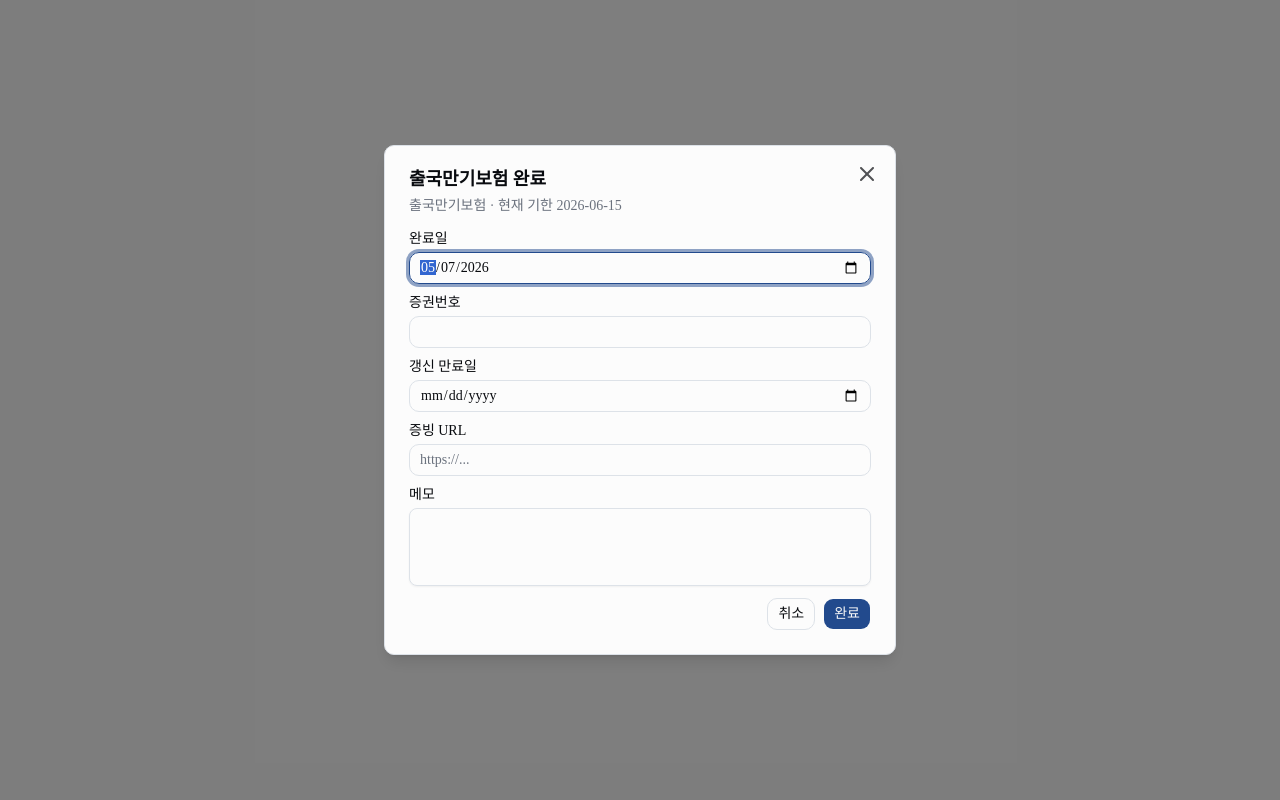
DeadlineCompleteModal - submit › 갱신_만료일이_완료일보다_이전이면_제출하지_않는다
The width and height of the screenshot is (1280, 800).
In the date field labelled "완료일": (640, 268) [409,252,871,284], type "2026-05-06"
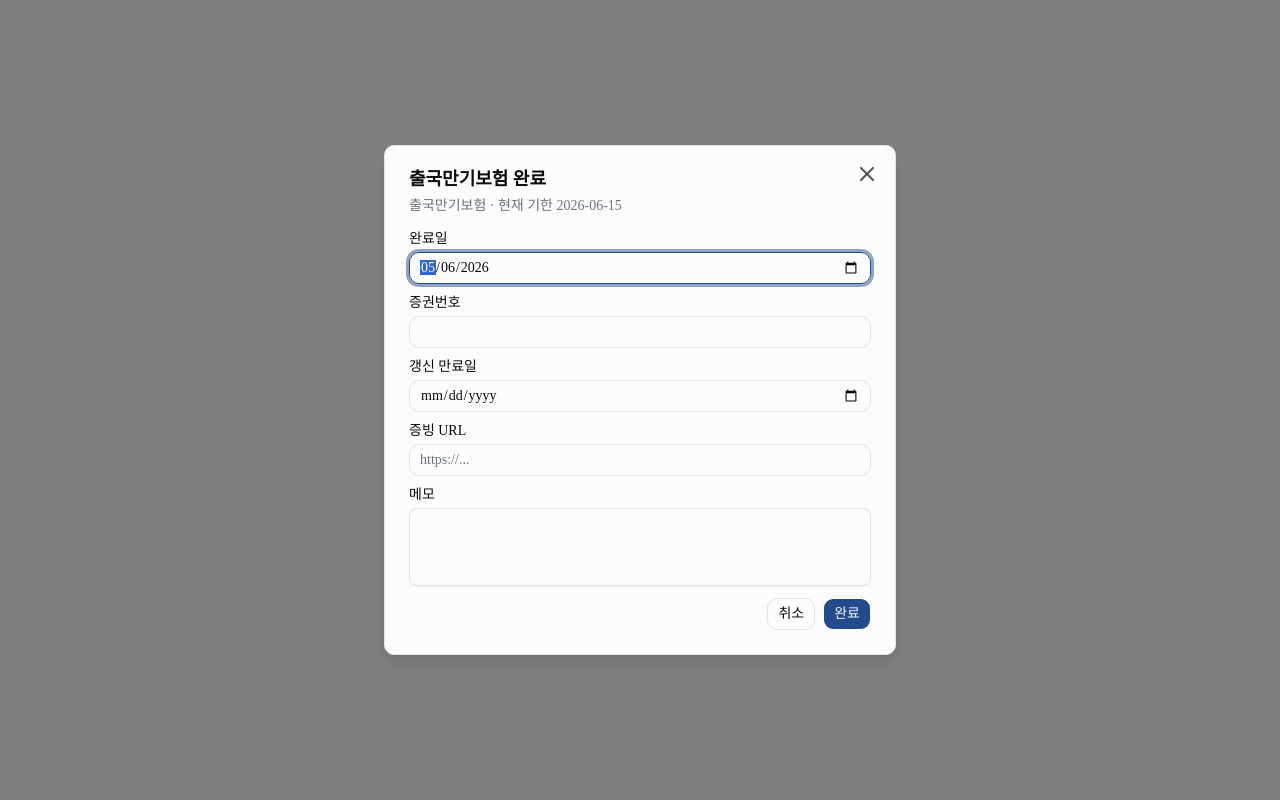
In the date field labelled "갱신 만료일": (640, 396) [409,380,871,412], type "2026-05-05"
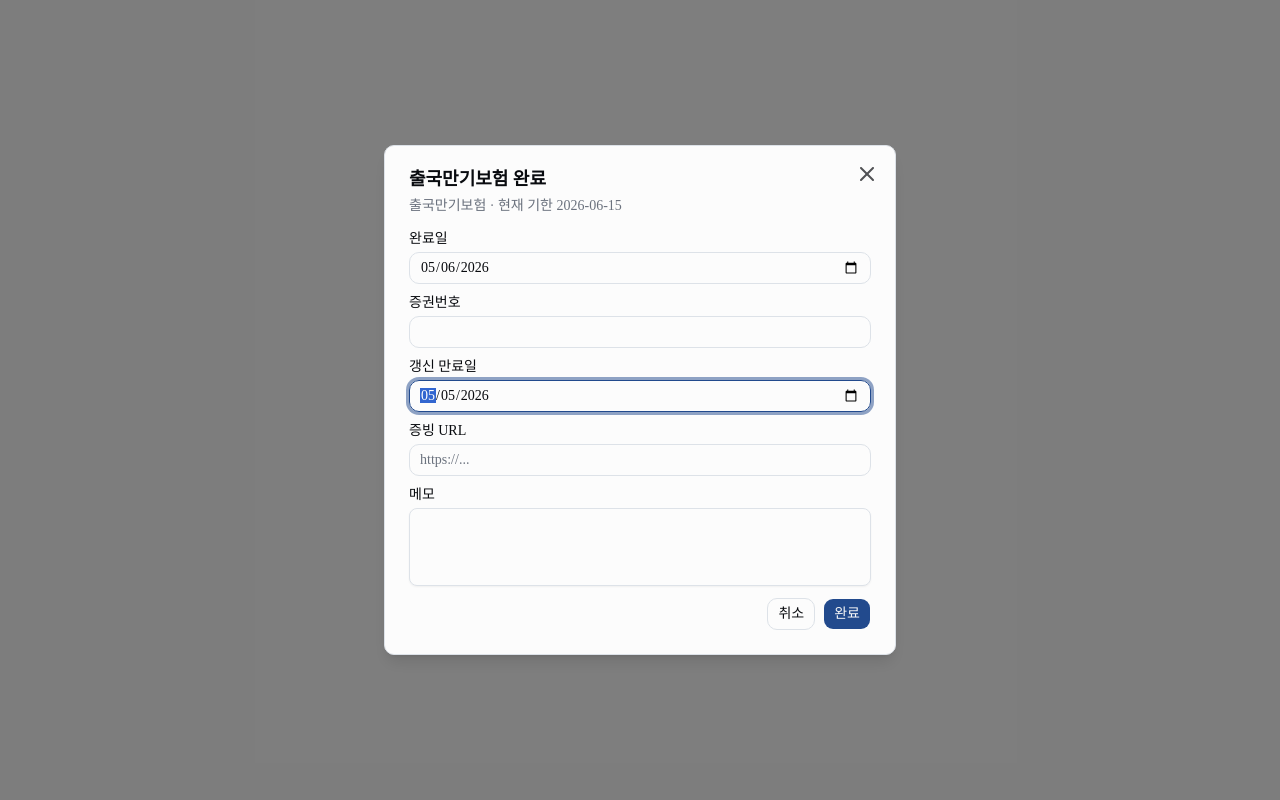
Click the button "완료": (847, 614) [823,598,871,630]
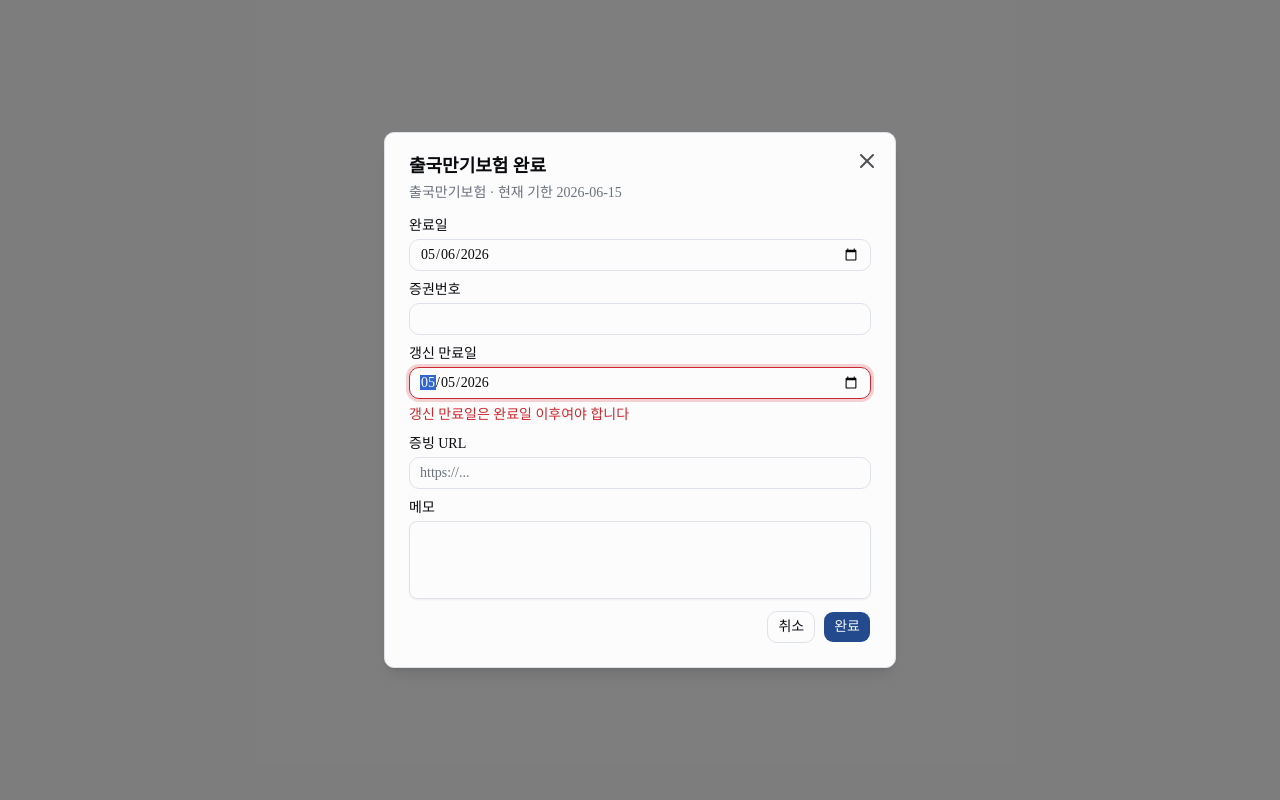
expect the text "갱신 만료일은 완료일 이후여야 합니다" is shown: met, box [409,407,629,422]
